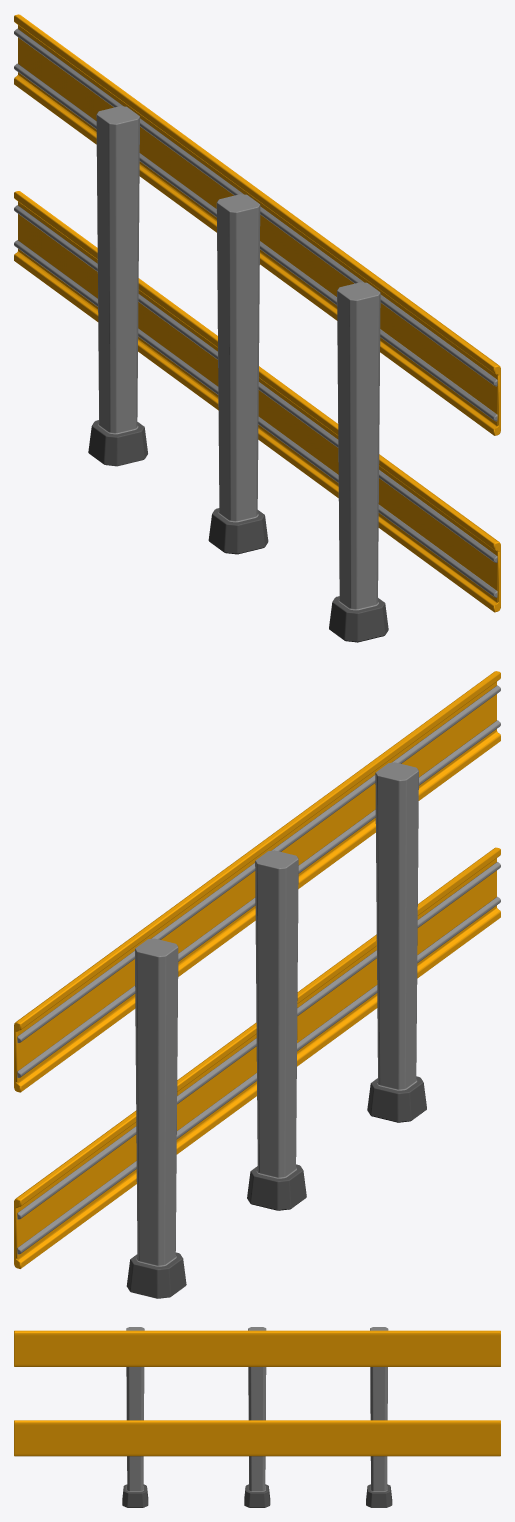
Rendered from refrigerated_gardrail_Straight.glb.
The picture shows the model from 3 angles, top to bottom: view 1: azimuth 30°, elevation 25°; view 2: azimuth 150°, elevation 25°; view 3: azimuth 270°, elevation 25°; orthographic projection. The views are drawn at different scales.
Visible parts, largest first — view 1: Refrigerated_Gardrail_Straight; view 2: Refrigerated_Gardrail_Straight; view 3: Refrigerated_Gardrail_Straight.
Boxes of the visible parts, x1=… form: Refrigerated_Gardrail_Straight: x1=14, y1=14, x2=500, y2=642; Refrigerated_Gardrail_Straight: x1=14, y1=671, x2=500, y2=1298; Refrigerated_Gardrail_Straight: x1=14, y1=1327, x2=500, y2=1507.
Bounding box in the file's own units: 0.217 × 1.59 × 4.
Materials: 2 (2 with a texture image).
